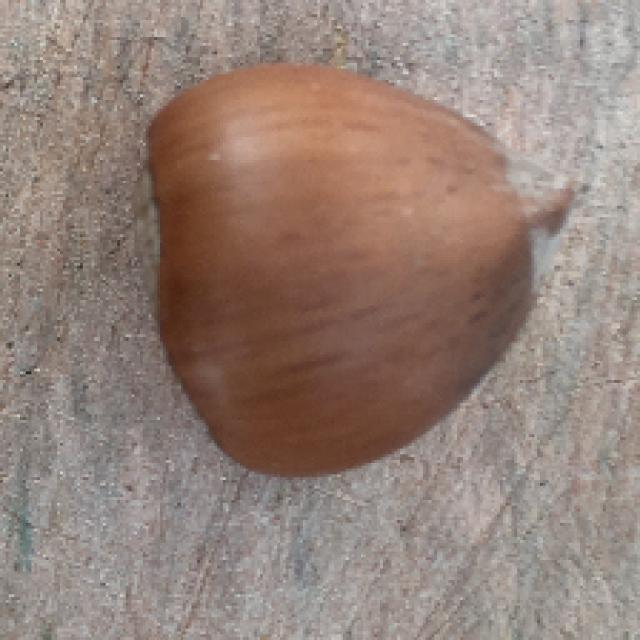damagedHazelnut: (133, 52, 578, 492)
